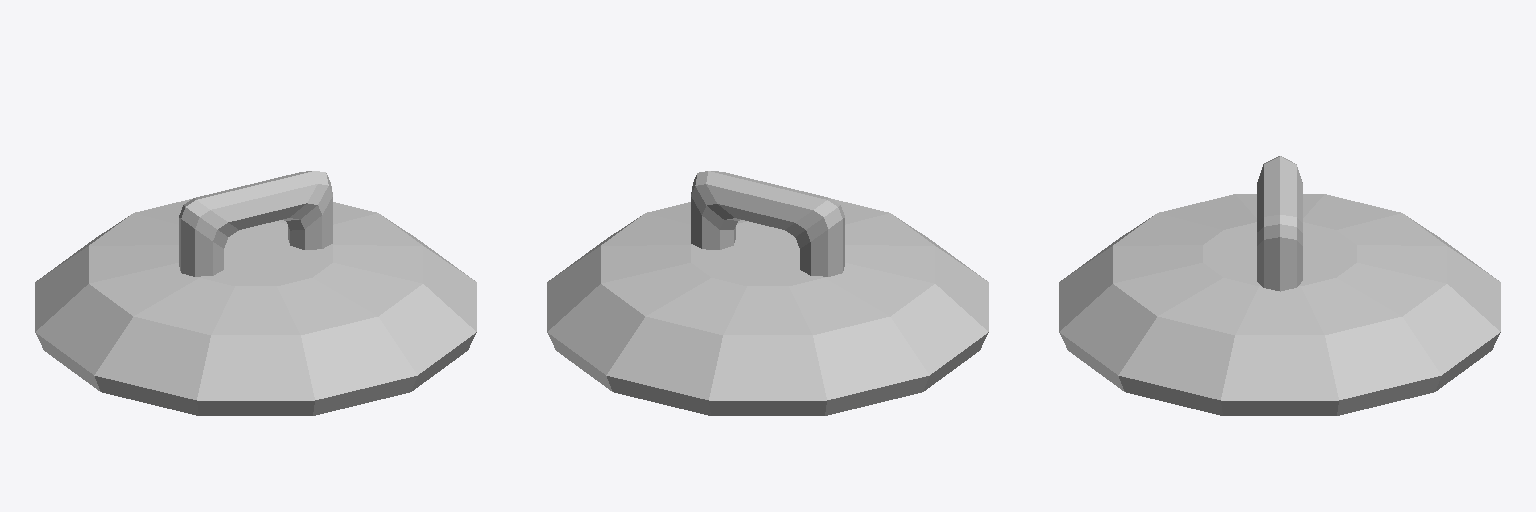
File: trash_can_lid.obj
The picture shows the model from 3 angles: view 1: azimuth 30°, elevation 25°; view 2: azimuth 150°, elevation 25°; view 3: azimuth 270°, elevation 25°; orthographic projection.
Visible parts, largest first — view 1: trash_can_lid; view 2: trash_can_lid; view 3: trash_can_lid.
Part boxes in pixels (left/top/right/bottom): trash_can_lid: left=35, top=171, right=476, bottom=415; trash_can_lid: left=547, top=171, right=988, bottom=415; trash_can_lid: left=1059, top=156, right=1500, bottom=415.
Size of the model in its own units: 1.05 by 0.3714 by 1.05.